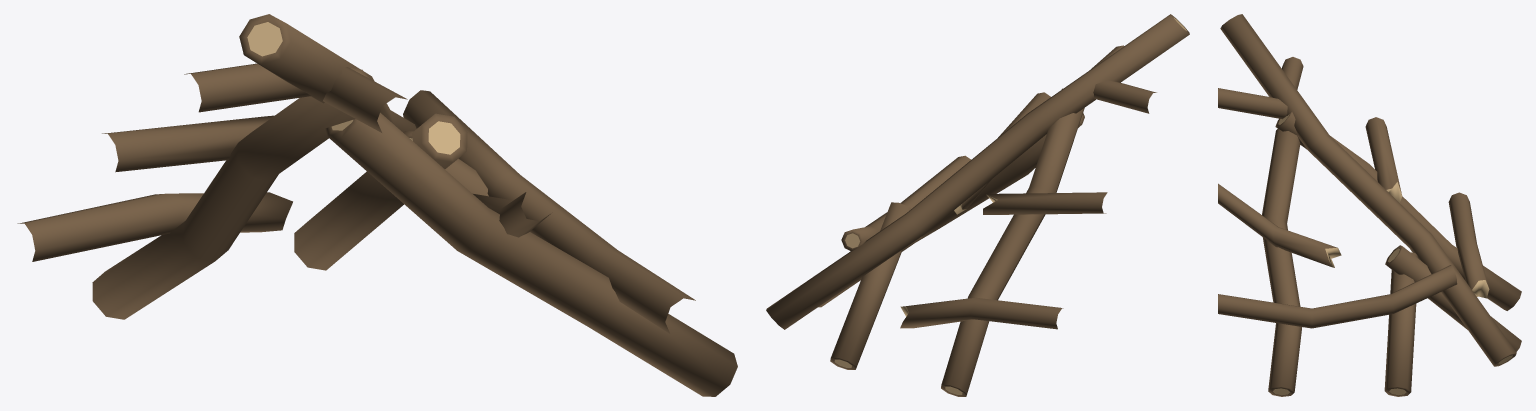
File: rpgpp_av_roof_support_01_6x3x3_corner_02a.gltf
3 views of the same model, side by side, from view 1: azimuth 30°, elevation 25°; view 2: azimuth 150°, elevation 25°; view 3: azimuth 270°, elevation 25° (orthographic). The views are drawn at different scales.
Parts seen in each view (by area): view 1: rpgpp_av_roof_support_01_6x3x3_corner_02a; view 2: rpgpp_av_roof_support_01_6x3x3_corner_02a; view 3: rpgpp_av_roof_support_01_6x3x3_corner_02a.
Boxes of the visible parts, x1,y1,x2,y2 form: rpgpp_av_roof_support_01_6x3x3_corner_02a: (17, 14, 737, 396); rpgpp_av_roof_support_01_6x3x3_corner_02a: (766, 14, 1189, 396); rpgpp_av_roof_support_01_6x3x3_corner_02a: (1218, 14, 1521, 396).
Bounding box in the file's own units: 0.0374 × 0.0352 × 0.0365.
1 material, 1 textured.
